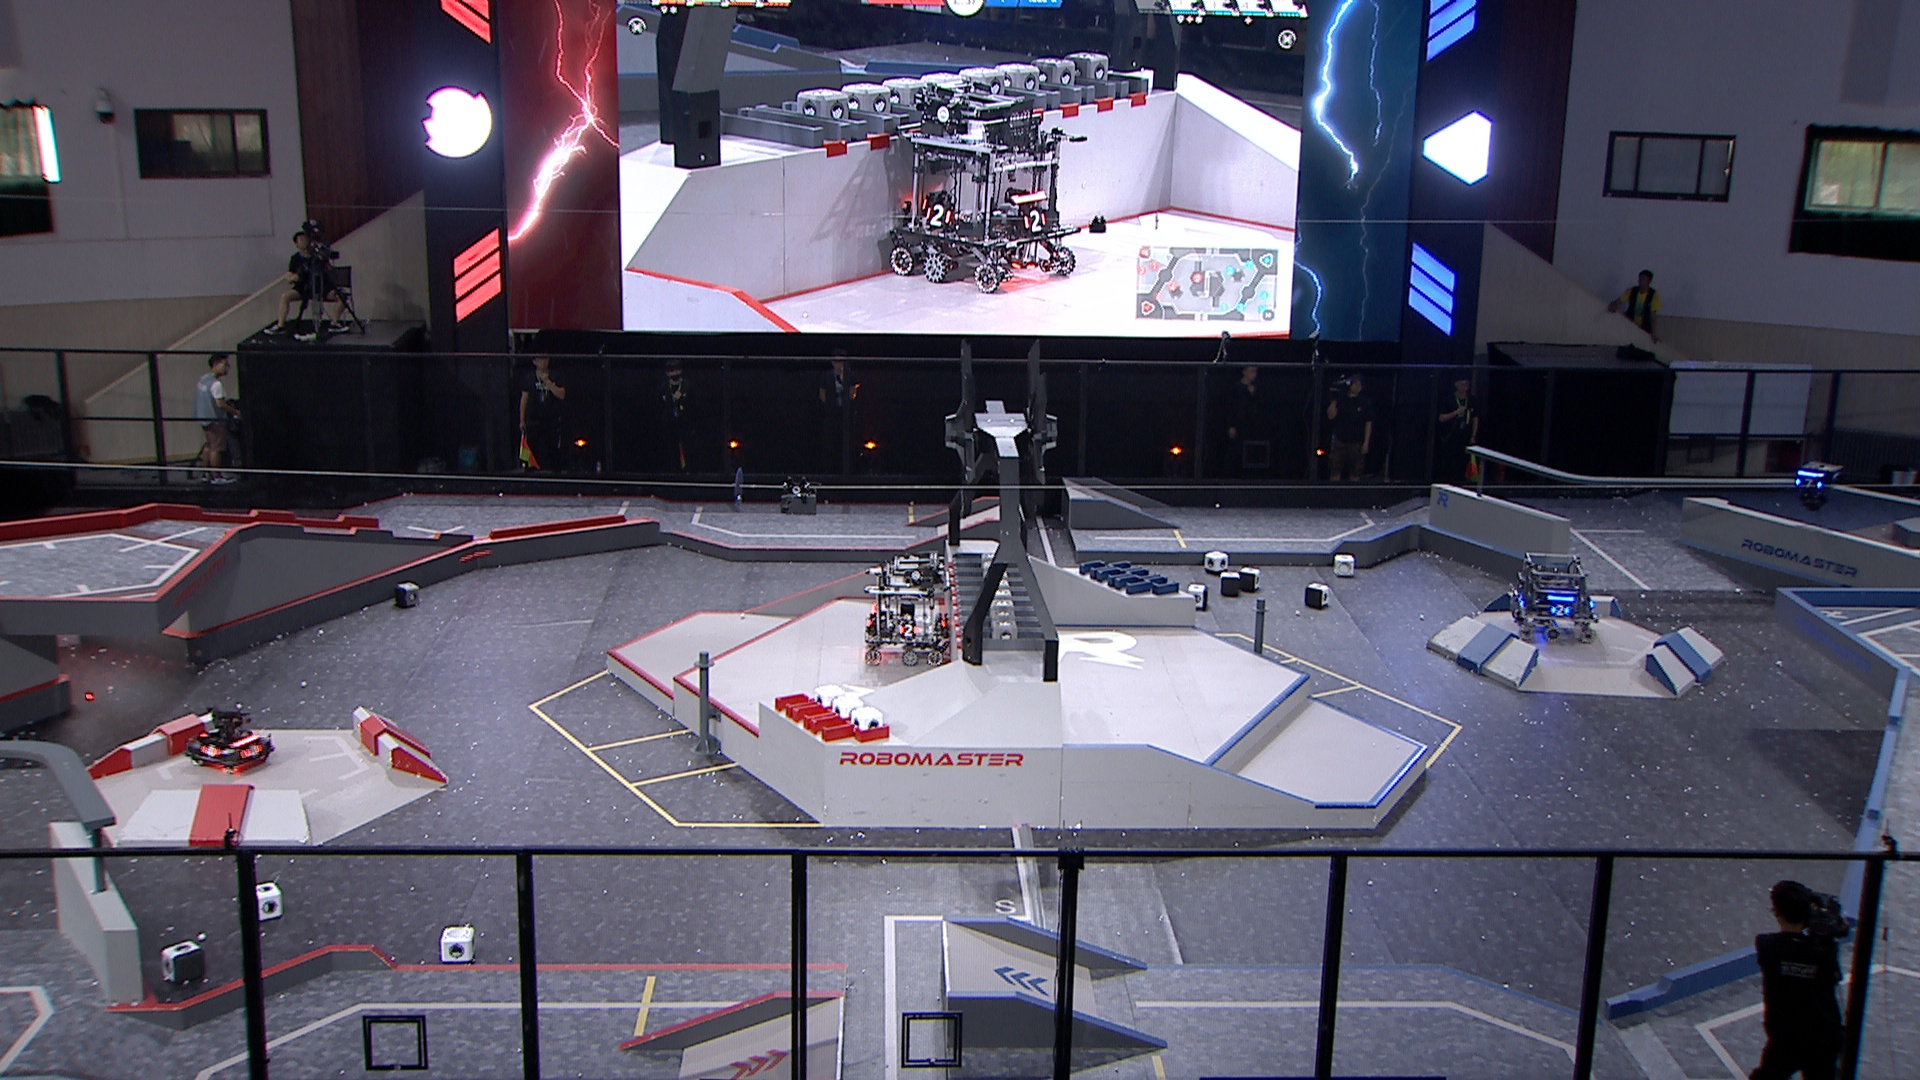armor: (195, 740, 225, 760), (237, 738, 264, 760), (1793, 475, 1825, 491), (895, 621, 920, 641), (1549, 603, 1572, 618), (1513, 589, 1527, 608)
car: (860, 549, 953, 669), (1509, 551, 1604, 647), (183, 698, 278, 774)
ignore: (887, 80, 1088, 295)
watcher: (1788, 455, 1841, 512)
